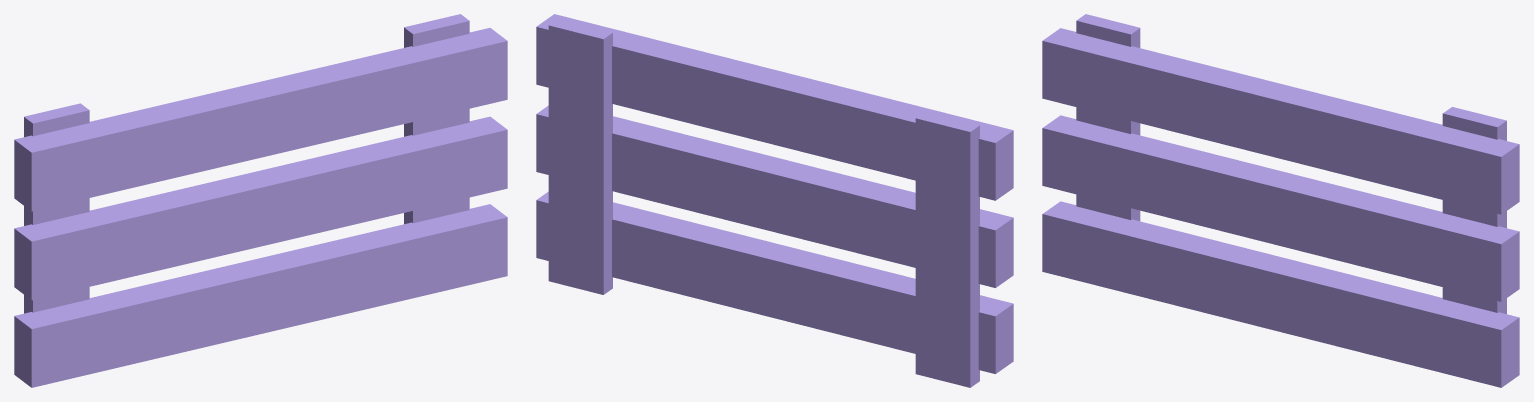
The picture shows the model from 3 angles, left to right: view 1: azimuth 30°, elevation 25°; view 2: azimuth 150°, elevation 25°; view 3: azimuth 330°, elevation 25°; orthographic projection.
Parts seen in each view (by area): view 1: Oj5_1; view 2: Oj5_1; view 3: Oj5_1.
Part boxes in pixels (x1,y1,x2,y2): Oj5_1: [14, 14, 507, 387]; Oj5_1: [536, 14, 1013, 387]; Oj5_1: [1042, 14, 1519, 387].
Bounding box in the file's own units: 1.79 × 0.943 × 0.1994.
Materials: 1 (1 with a texture image).
